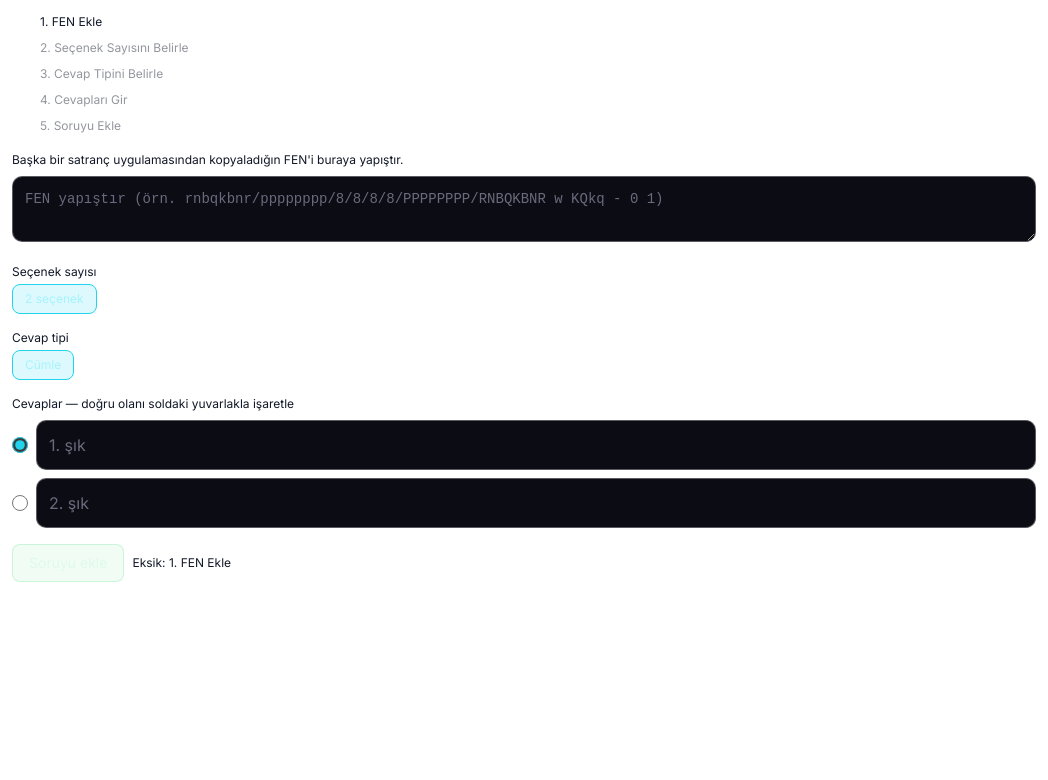
it: KonumPratigiFields › geçersiz FEN yapıştırılınca uyarı gösterir
This screenshot has width=1048, height=780.
Replace the text in the text box with placeholder "FEN yapıştır" with "gecersiz-fen" at x=524, y=209, box [12, 176, 1036, 242]
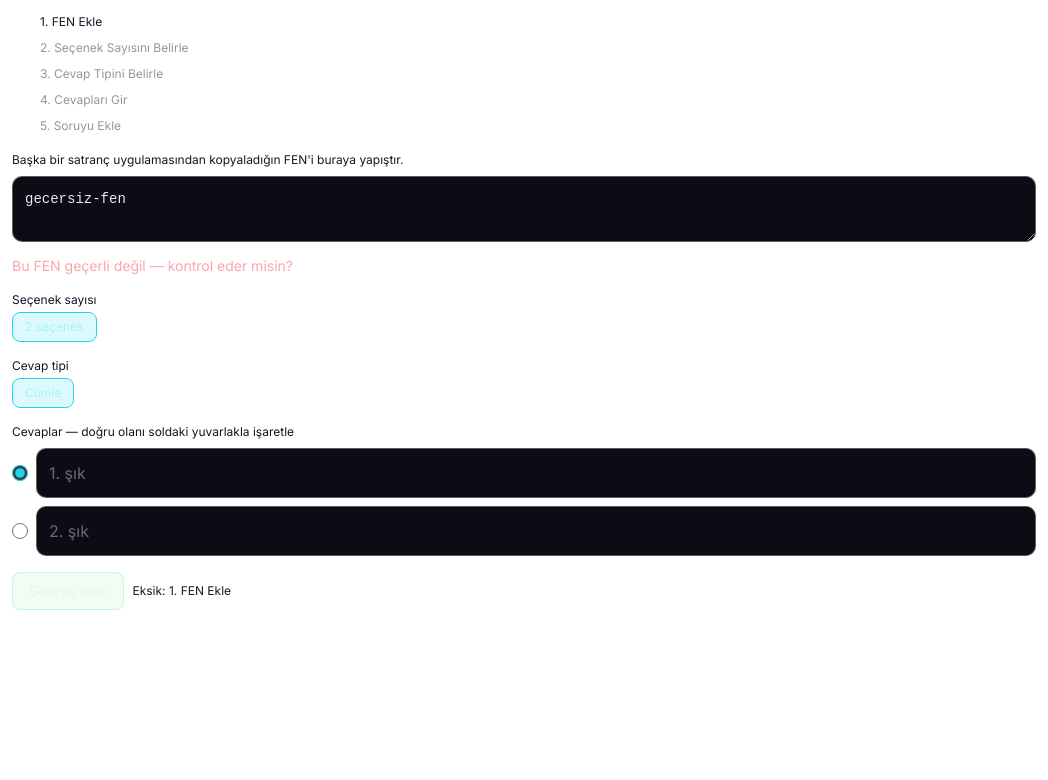
Now the text "Bu FEN geçerli değil — kontrol eder misin?" is shown, box [12, 257, 293, 274]
